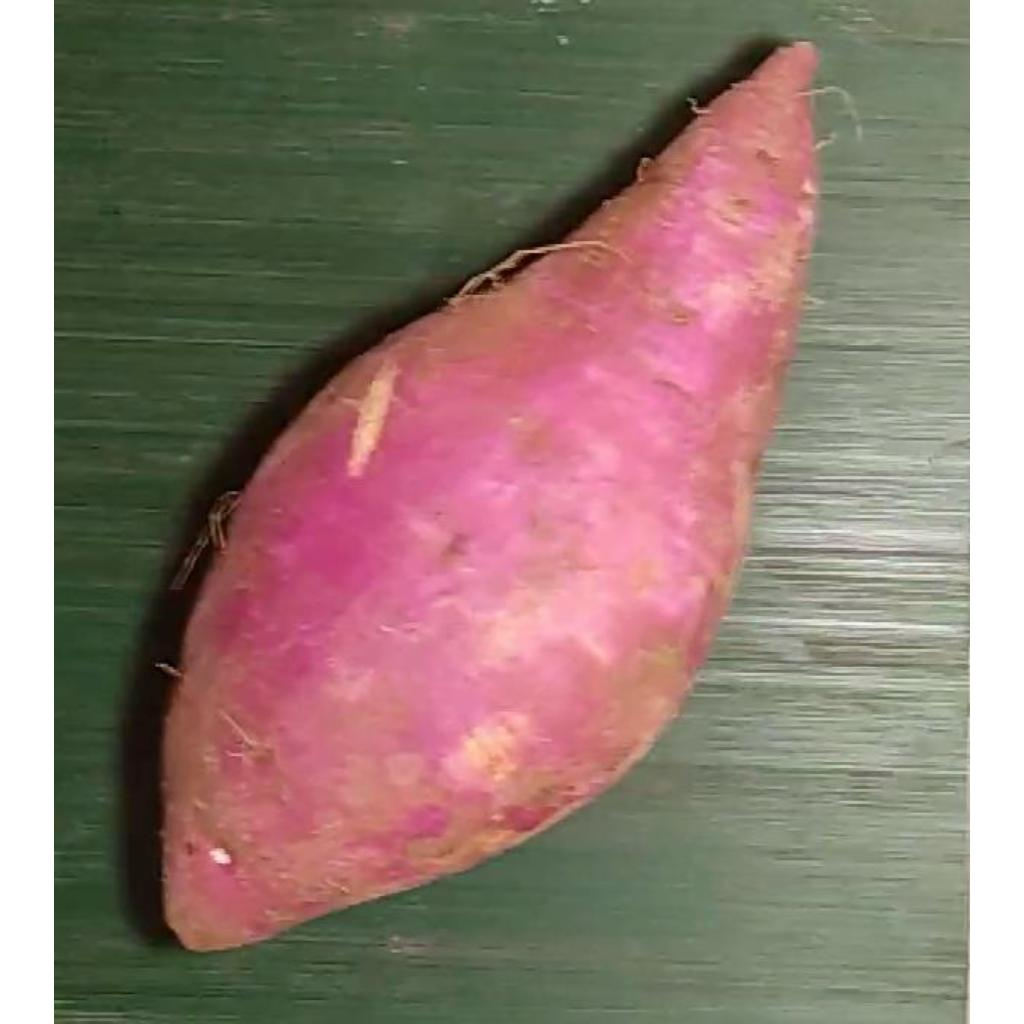Sweet Potato: (160, 42, 822, 956)
